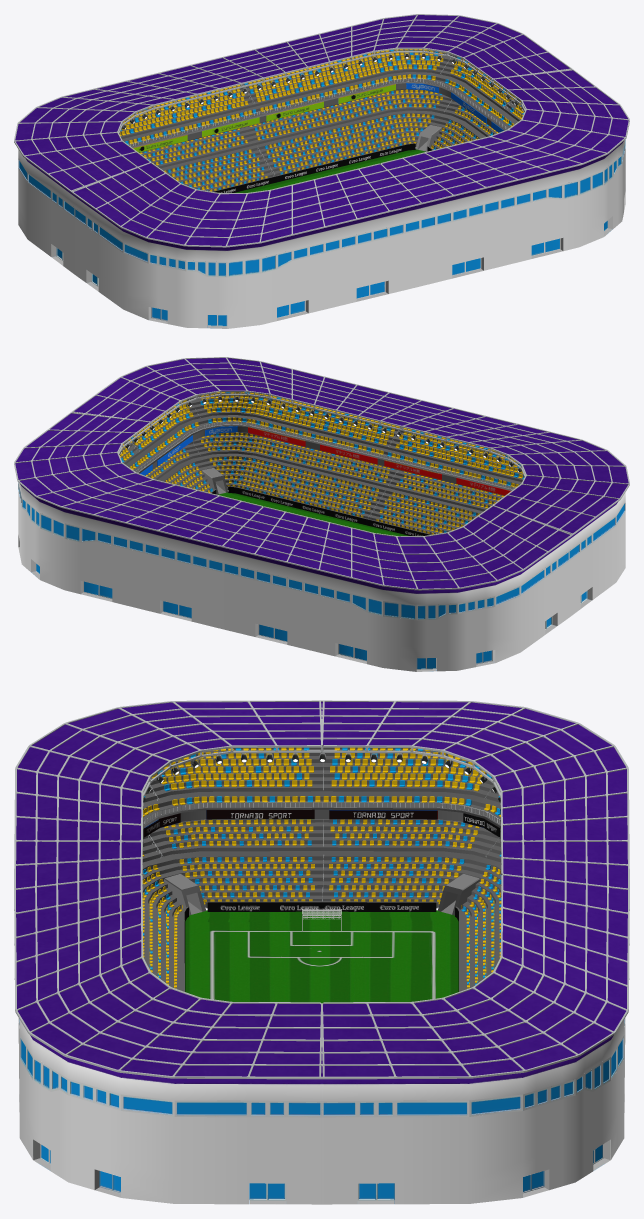
Rendered from stadium.glb.
3 renders of one model, top to bottom at view 1: azimuth 30°, elevation 25°; view 2: azimuth 150°, elevation 25°; view 3: azimuth 270°, elevation 25°, orthographic. The views are drawn at different scales.
Visible parts, largest first — view 1: Stadium_Roof_Walls, Platforms (×2), Stadium, Field_Entrances_Windows, Advertising, Railing; view 2: Stadium_Roof_Walls, Platforms (×2), Stadium, Field_Entrances_Windows, Advertising, Railing; view 3: Stadium_Roof_Walls, Platforms (×2), Field_Entrances_Windows, Stadium, Advertising, Railing.
Boxes of the visible parts, x1=… form: Stadium_Roof_Walls: x1=15, y1=15, x2=628, y2=328; Platforms (×2): x1=119, y1=49, x2=524, y2=191; Stadium: x1=14, y1=14, x2=629, y2=247; Field_Entrances_Windows: x1=18, y1=125, x2=625, y2=328; Advertising: x1=133, y1=83, x2=503, y2=192; Railing: x1=128, y1=58, x2=515, y2=174; Stadium_Roof_Walls: x1=15, y1=358, x2=628, y2=671; Platforms (×2): x1=119, y1=392, x2=524, y2=534; Stadium: x1=14, y1=357, x2=629, y2=590; Field_Entrances_Windows: x1=18, y1=468, x2=625, y2=671; Advertising: x1=140, y1=426, x2=510, y2=535; Railing: x1=128, y1=405, x2=515, y2=518; Stadium_Roof_Walls: x1=16, y1=702, x2=627, y2=1204; Platforms (×2): x1=142, y1=747, x2=501, y2=991; Field_Entrances_Windows: x1=18, y1=874, x2=625, y2=1204; Stadium: x1=14, y1=700, x2=629, y2=1079; Advertising: x1=144, y1=809, x2=499, y2=991; Railing: x1=143, y1=748, x2=500, y2=901.
Size of the model in its own units: 552 by 100 by 381.
Materials: 8 (6 with a texture image).
